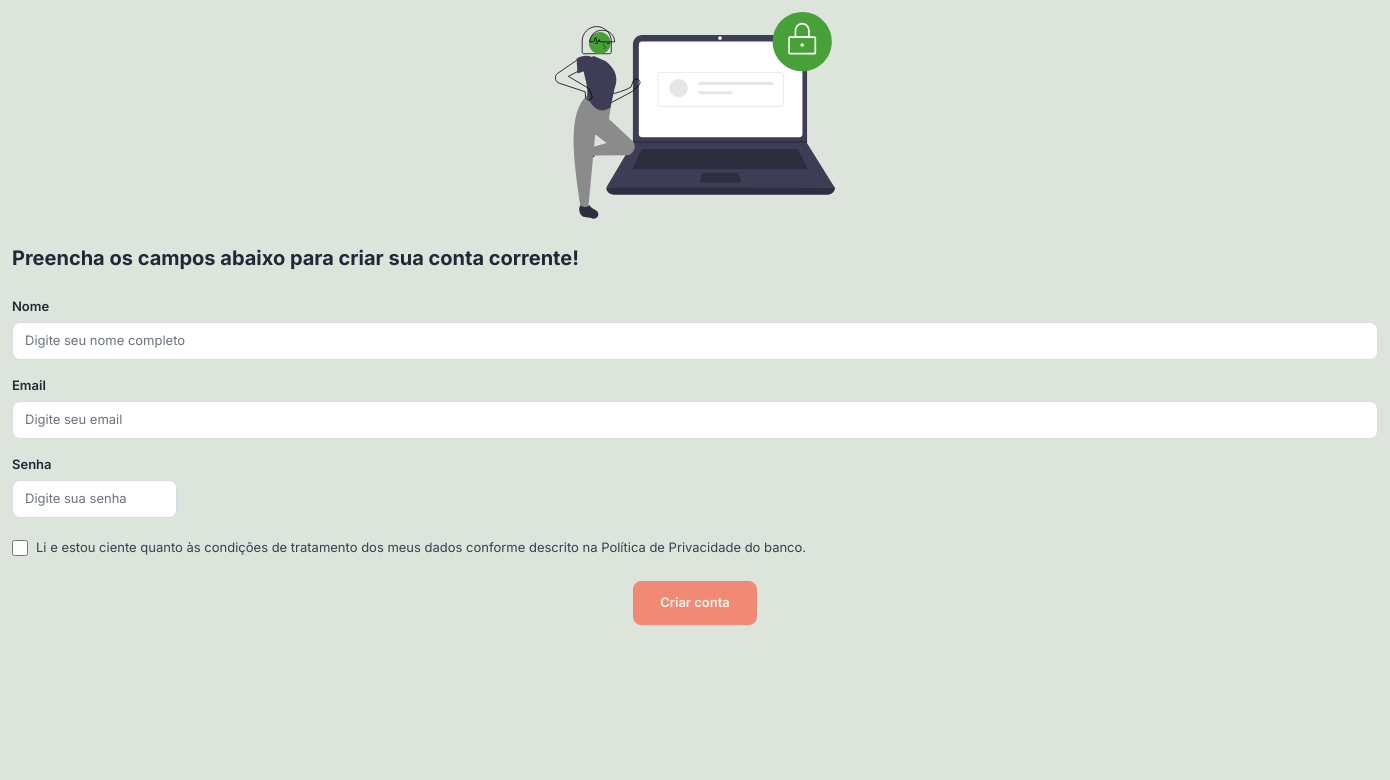
it: RegisterForm › mantem botao desabilitado ate o form ficar valido
Expected: the button "Criar conta" is disabled, x1=633 y1=581 x2=757 y2=625
Type "Maria Silva" into the field labelled "Nome". click: (695, 341)
box: x1=12 y1=322 x2=1378 y2=360
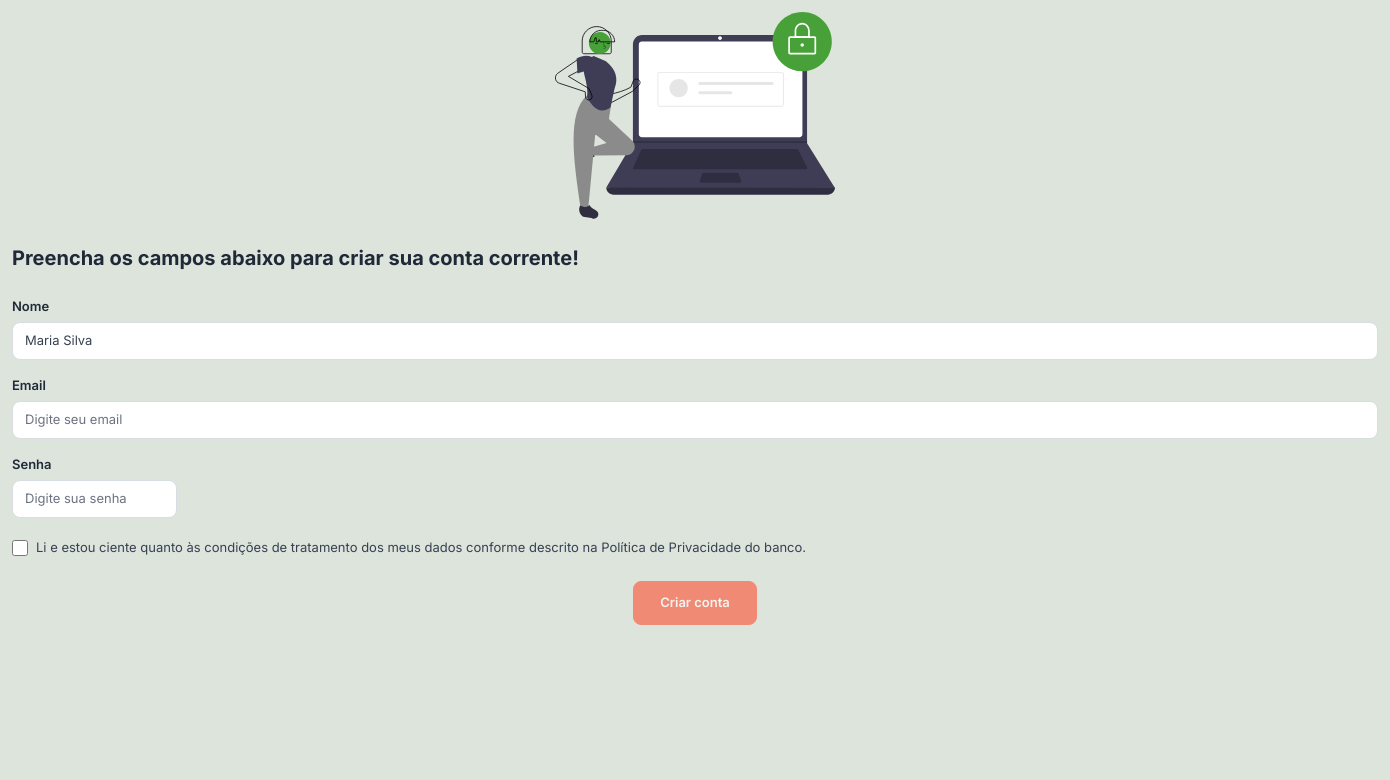
Type "maria@mail.com" into the field labelled "Email". click: (695, 420)
box: x1=12 y1=401 x2=1378 y2=439
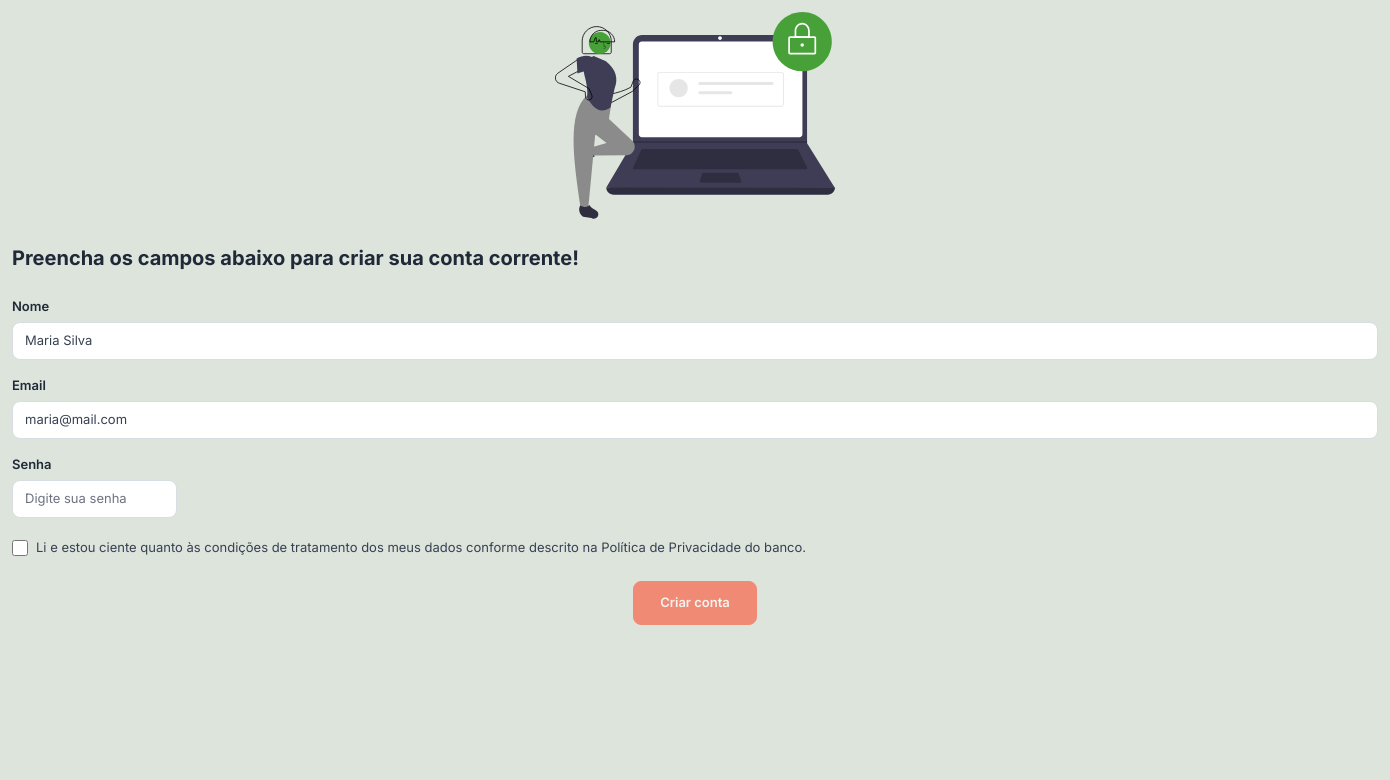
Type "12345678" into the password field labelled "Senha". click: (94, 499)
box: x1=12 y1=480 x2=177 y2=518
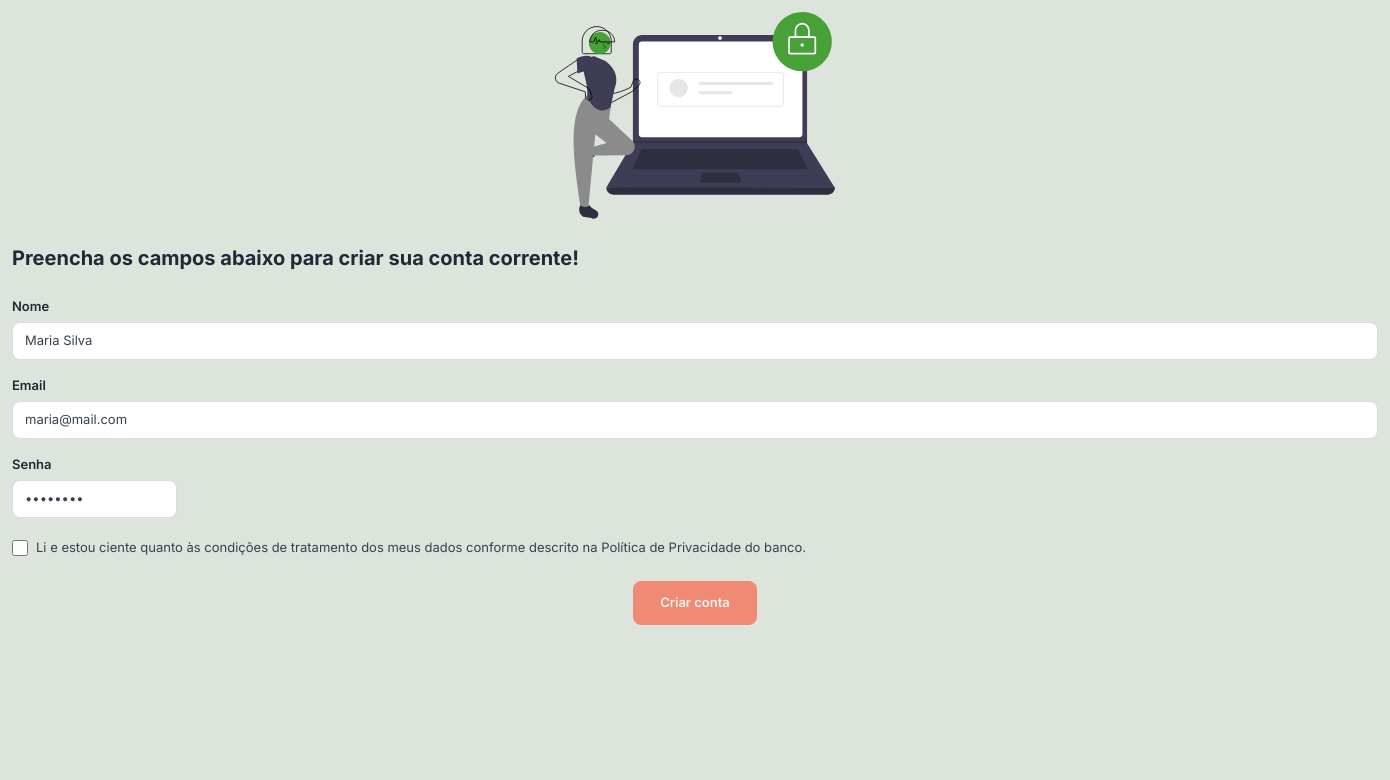
Expected: the button "Criar conta" is disabled, x1=633 y1=581 x2=757 y2=625
Click the checkbox. click: (20, 548)
box: x1=12 y1=540 x2=28 y2=556
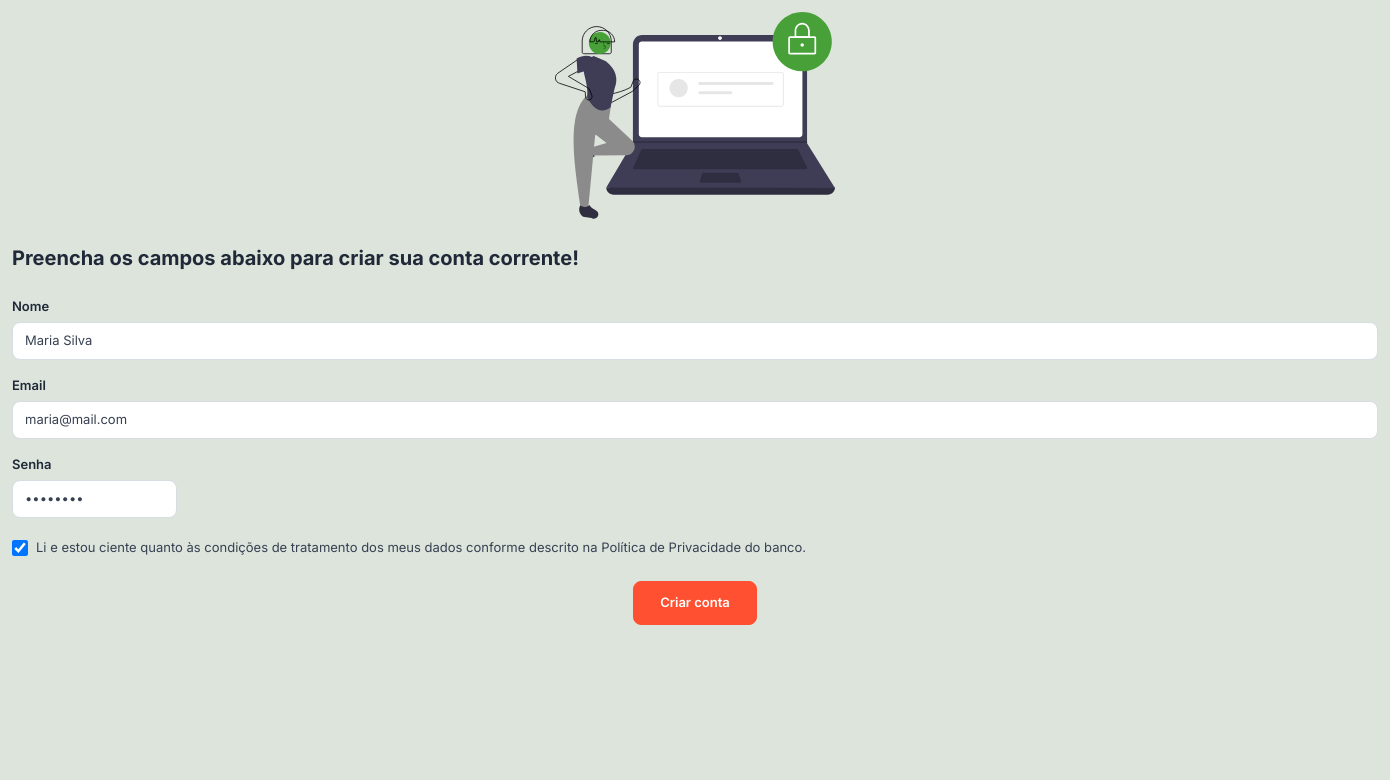
Result: the button "Criar conta" is enabled at x1=633 y1=581 x2=757 y2=625
Replace the text in the field labelled "Email" with "email-invalido". click: (695, 420)
box: x1=12 y1=401 x2=1378 y2=439
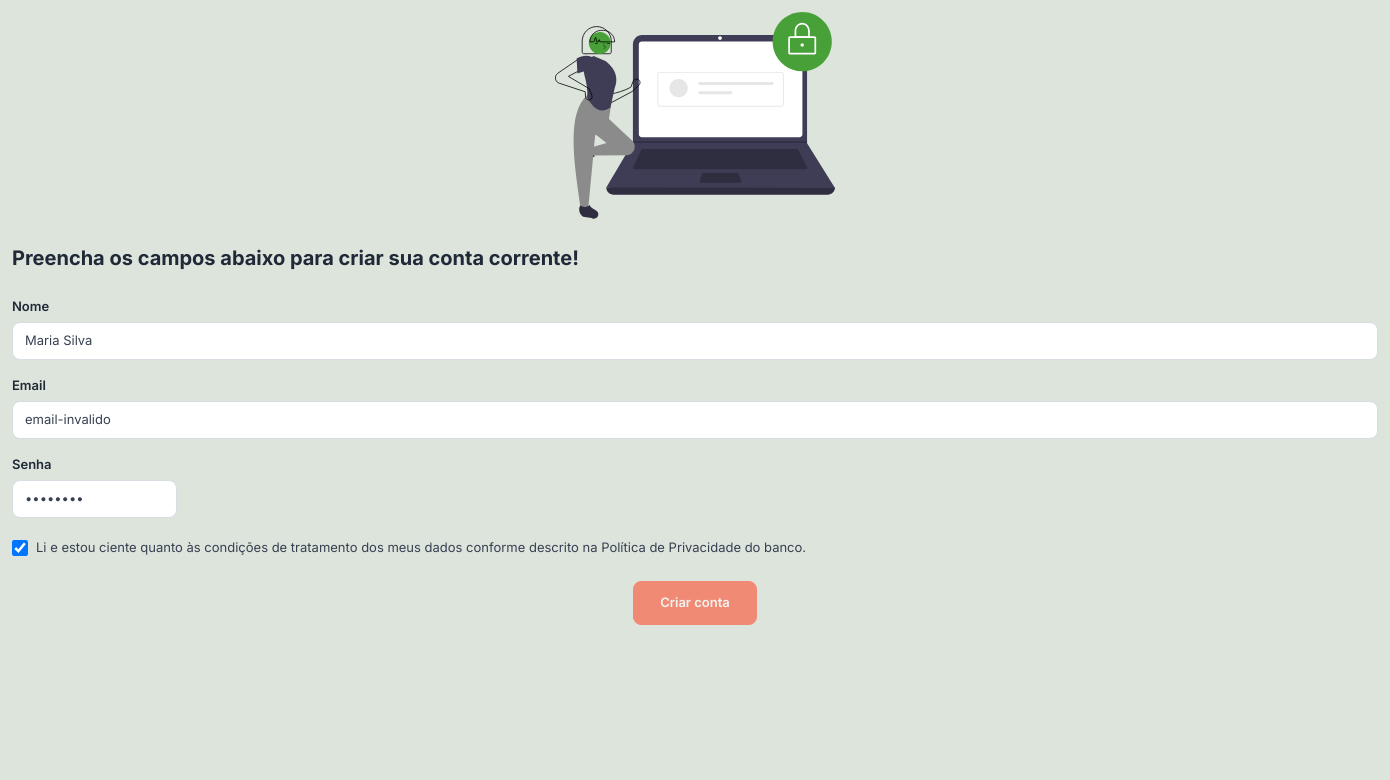
Result: the button "Criar conta" is disabled at x1=633 y1=581 x2=757 y2=625
